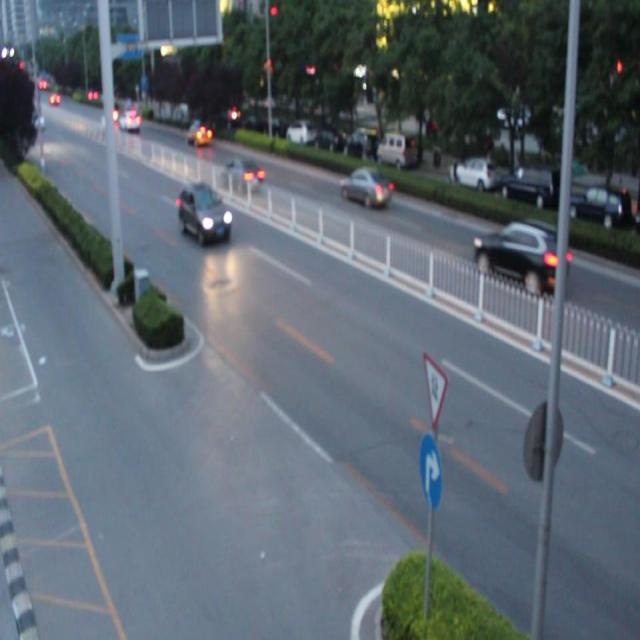car: (476, 220, 566, 290), (178, 185, 230, 237), (341, 167, 396, 211), (223, 160, 264, 192), (185, 120, 213, 148)
